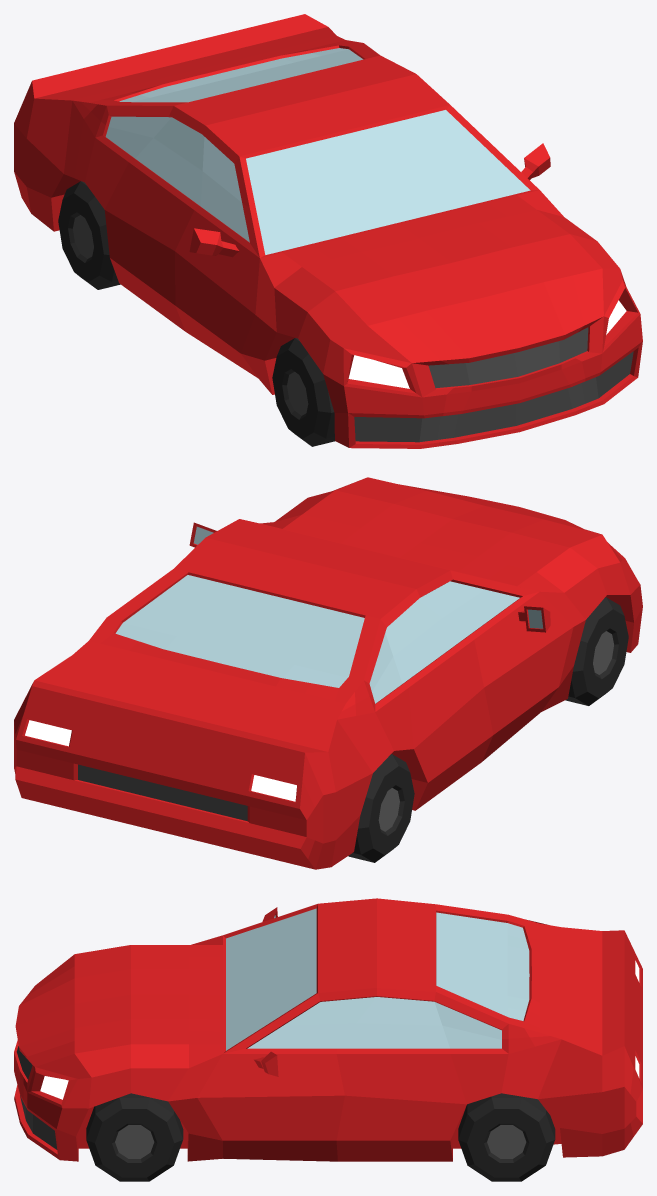
The model's file is car.glb.
3 renders of one model, top to bottom at view 1: azimuth 30°, elevation 25°; view 2: azimuth 150°, elevation 25°; view 3: azimuth 270°, elevation 25°, orthographic. The views are drawn at different scales.
Parts seen in each view (by area): view 1: car; view 2: car; view 3: car.
Boxes of the visible parts, <box> form: car: <box>14,14,642,448</box>; car: <box>14,477,642,869</box>; car: <box>14,898,642,1181</box>.
Bounding box in the file's own units: 0.7991 × 0.4344 × 1.41.
